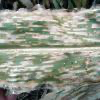Corn Gray leaf spot: (0, 6, 100, 94)
